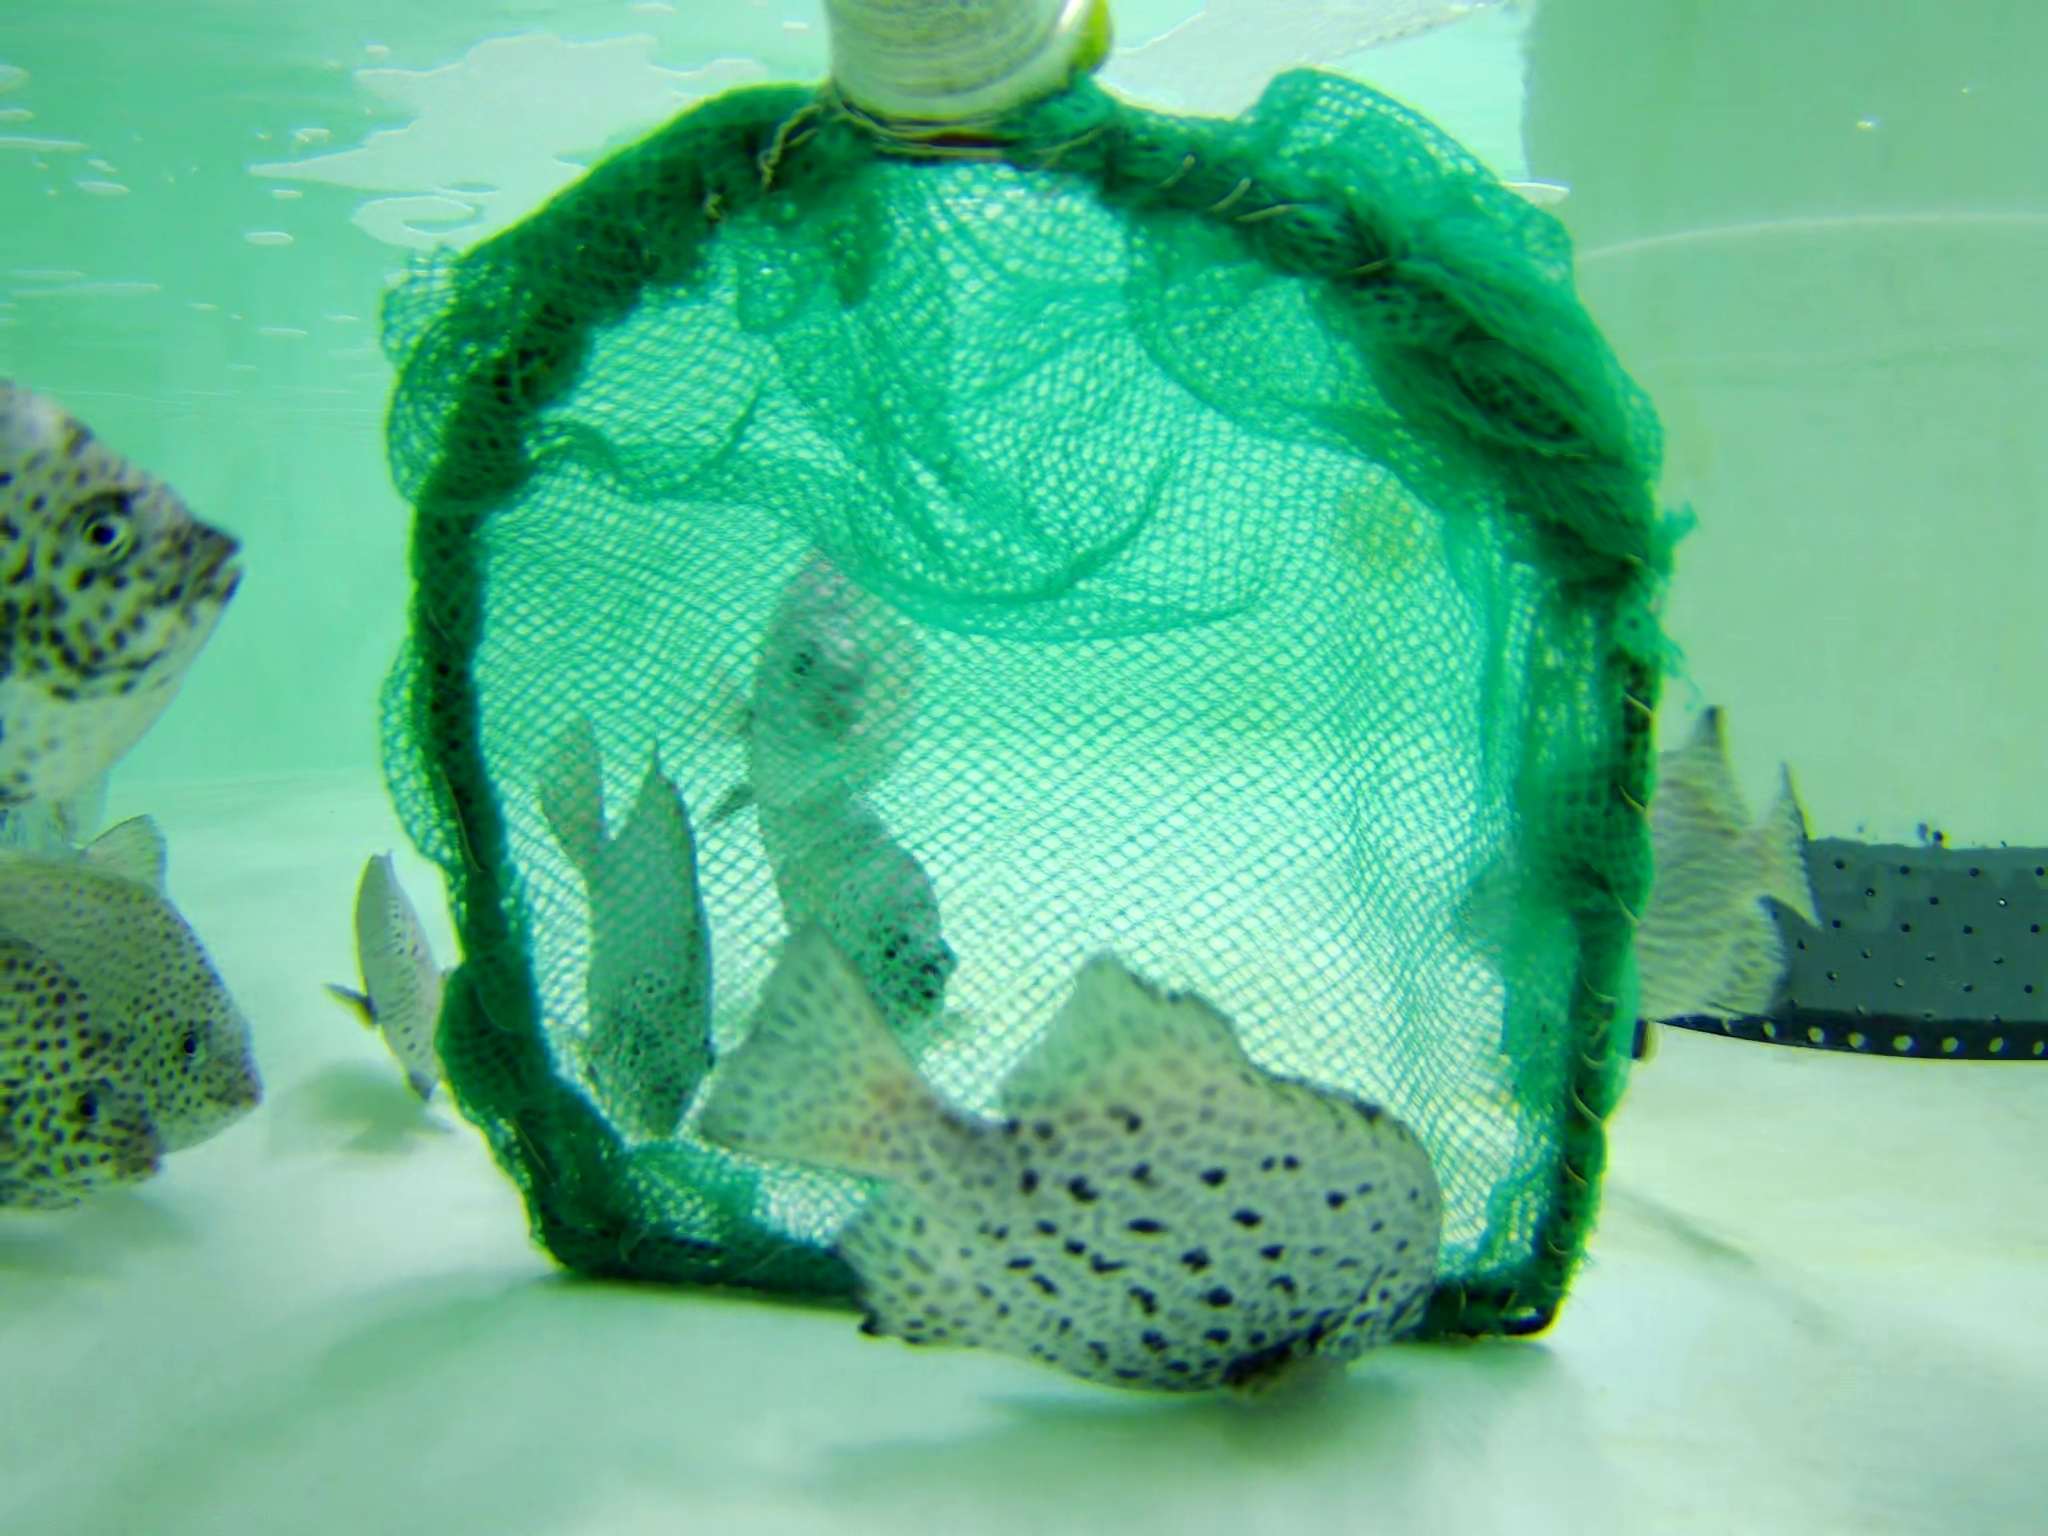fish: (693, 928, 1438, 1410), (1422, 710, 1822, 1092), (2, 390, 277, 813), (2, 802, 266, 1202), (532, 716, 711, 1126), (743, 749, 963, 1034), (700, 532, 885, 805), (318, 842, 466, 1144), (2, 950, 155, 1221)
